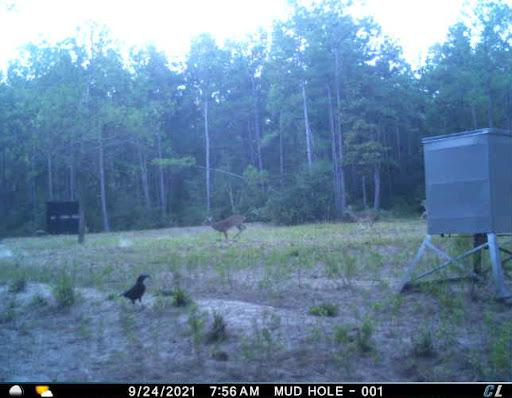Deer: (206, 211, 251, 252)
